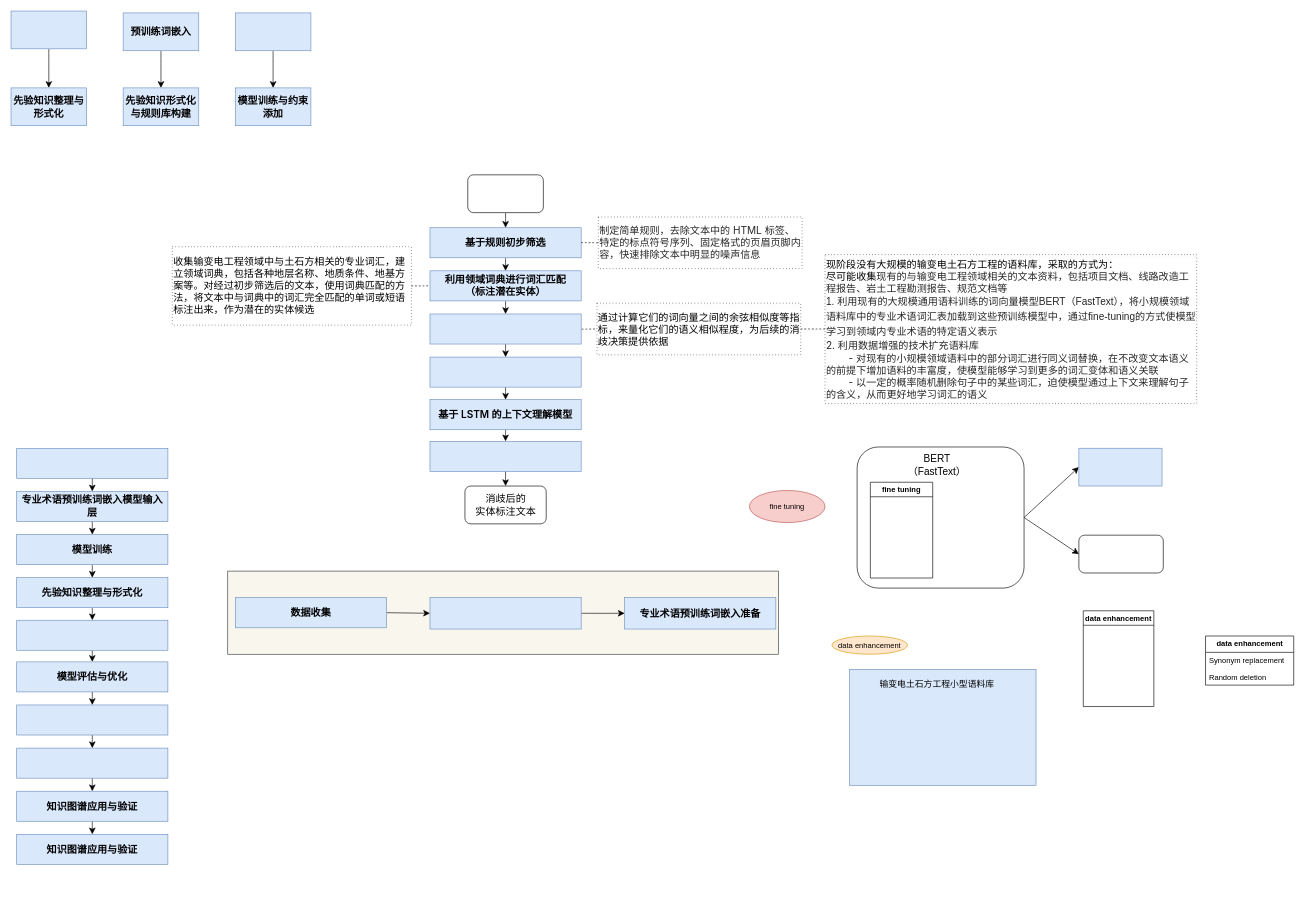
This 1305x919 diagram has some shape labels left out. The shapes that lost their labels are listed below. From the top down, each one's centre as x and y in pixels, then its label:
the point at 48,29: 领域专家咨询
the point at 273,31: 模型融合与应用
the point at 505,193: 原始文本数据
the point at 505,328: 采用词向量模型计算语义相似度 （Word2Vec）
the point at 505,371: 基于注意力机制的语义增强模块
the point at 92,463: 模型基础架构构建
the point at 505,456: 实体消歧决策
the point at 1120,467: 经过优化和扩充的 小规模语料库
the point at 1120,554: 输变电土石方工程领域 语义表示的词向量模型
the point at 505,613: 文本预处理
the point at 92,635: 将先验知识作为约束或正则加入模型训练目标函数
the point at 92,719: 利用优化后的模型进行知识抽取
the point at 92,762: 知识图谱构建与存储
